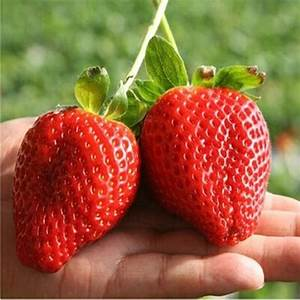Fresa: (135, 78, 284, 255), (10, 101, 144, 279)
